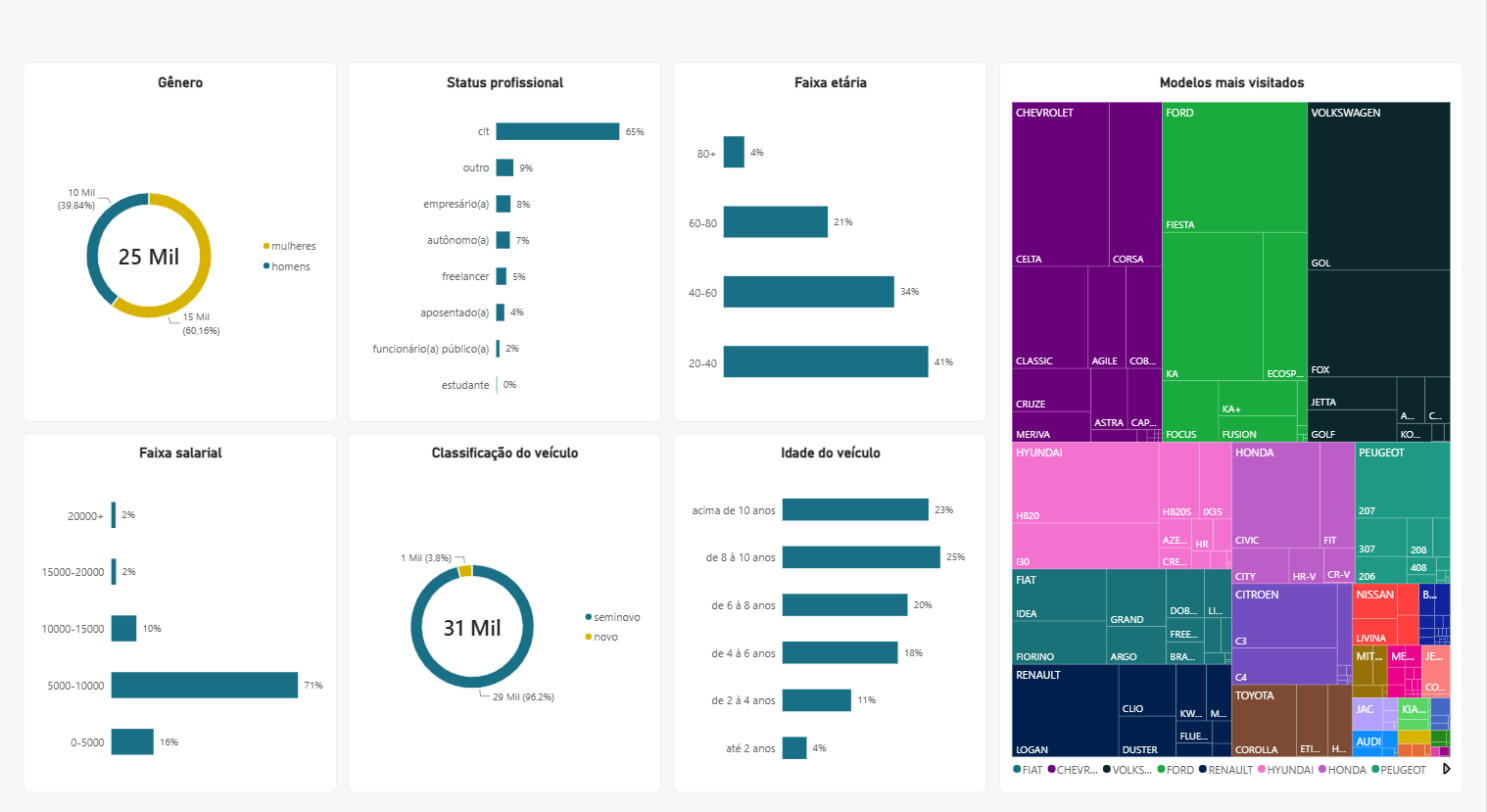

Layout of this report page (visuals, bound fields, positions):
{"tool":"powerbi","page":{"name":"Página 1","canvas":[1920,1080],"ordinal":0},"visuals":[{"type":"donutChart","title":"Gênero","fields":{"Category":["Genero.gênero"],"Y":["Sum(Genero.leads (#))"]},"box":[30,90,405,465],"z":0},{"type":"clusteredBarChart","title":"Status profissional\t","fields":{"Category":["StatusProfissional.status profissional"],"Y":["Sum(StatusProfissional.leads (%))"]},"box":[450,90,405,465],"z":1},{"type":"clusteredBarChart","title":"Faixa etária","fields":{"Category":["FaixaEtaria.faixa etária"],"Y":["Sum(FaixaEtaria.leads (%))"]},"box":[870,90,405,465],"z":2},{"type":"clusteredBarChart","title":"Faixa salarial","fields":{"Category":["FaixaSalarial.faixa salarial"],"Y":["Sum(FaixaSalarial.leads (%))"]},"box":[30,570,405,465],"z":3},{"type":"donutChart","title":"Classificação do veículo\t","fields":{"Category":["ClassificacaoVeiculo.classificação do veículo"],"Y":["Sum(ClassificacaoVeiculo.veículos visitados (#))"]},"box":[450,570,405,465],"z":4},{"type":"clusteredBarChart","title":"Idade do veículo","fields":{"Category":["IdadeVeiculo.idade do veículo"],"Y":["Sum(IdadeVeiculo.veículos visitados (%))"]},"box":[870,570,405,465],"z":5},{"type":"treemap","title":"Modelos mais visitados","fields":{"Details":["ModelosVisitados.model"],"Group":["ModelosVisitados.brand"],"Values":["Sum(ModelosVisitados.visitas (#))"]},"box":[1290,90,600,945],"z":6}]}

Visuals, with their boxes in screenshot pixels (x1, y1, x2, y2):
"Gênero" donutChart: region(111, 80, 401, 413)
"Status profissional	" clusteredBarChart: region(411, 80, 701, 413)
"Faixa etária" clusteredBarChart: region(712, 80, 1002, 413)
"Faixa salarial" clusteredBarChart: region(111, 424, 401, 757)
"Classificação do veículo	" donutChart: region(411, 424, 701, 757)
"Idade do veículo" clusteredBarChart: region(712, 424, 1002, 757)
"Modelos mais visitados" treemap: region(1013, 80, 1443, 757)
